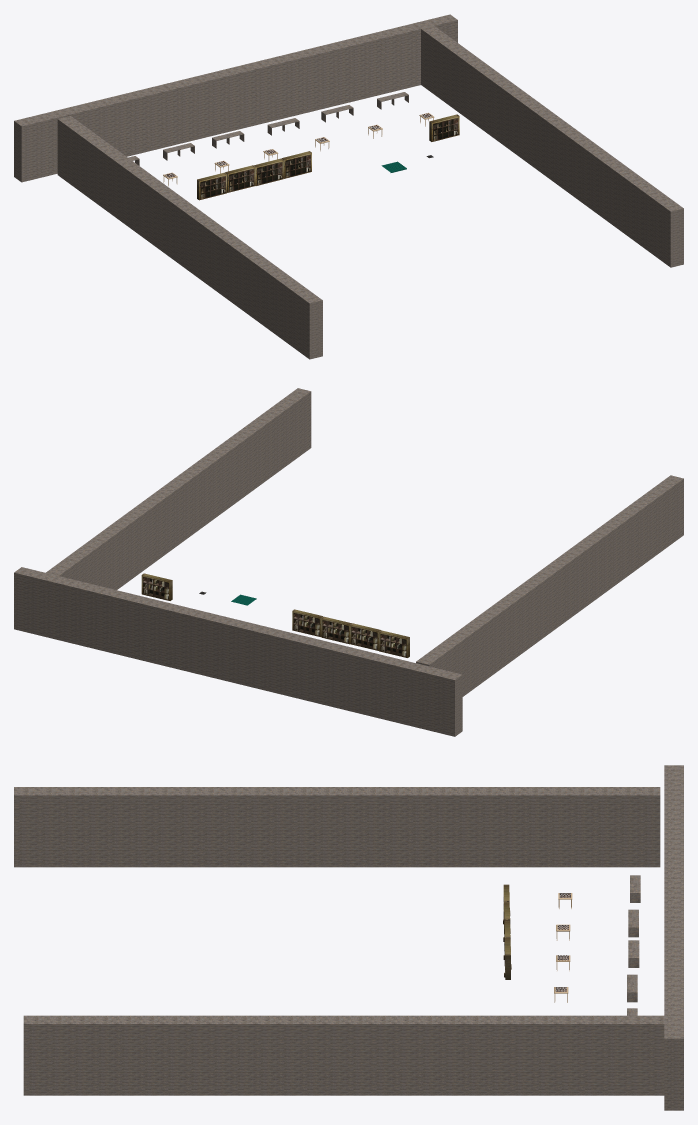
File: chesstable01.dae
3 renders of one model, top to bottom at view 1: azimuth 30°, elevation 25°; view 2: azimuth 150°, elevation 25°; view 3: azimuth 270°, elevation 25°, orthographic. The views are drawn at different scales.
Visible parts, largest first — view 1: wall (×3); view 2: wall (×3); view 3: wall (×3).
Boxes of the visible parts, x1,y1,x2,y2 form: wall (×3): (14,14,683,359); wall (×3): (14,388,683,736); wall (×3): (14,765,683,1110).
Size of the model in its own units: 6413 by 6647 by 789.
14 materials, 9 textured.
